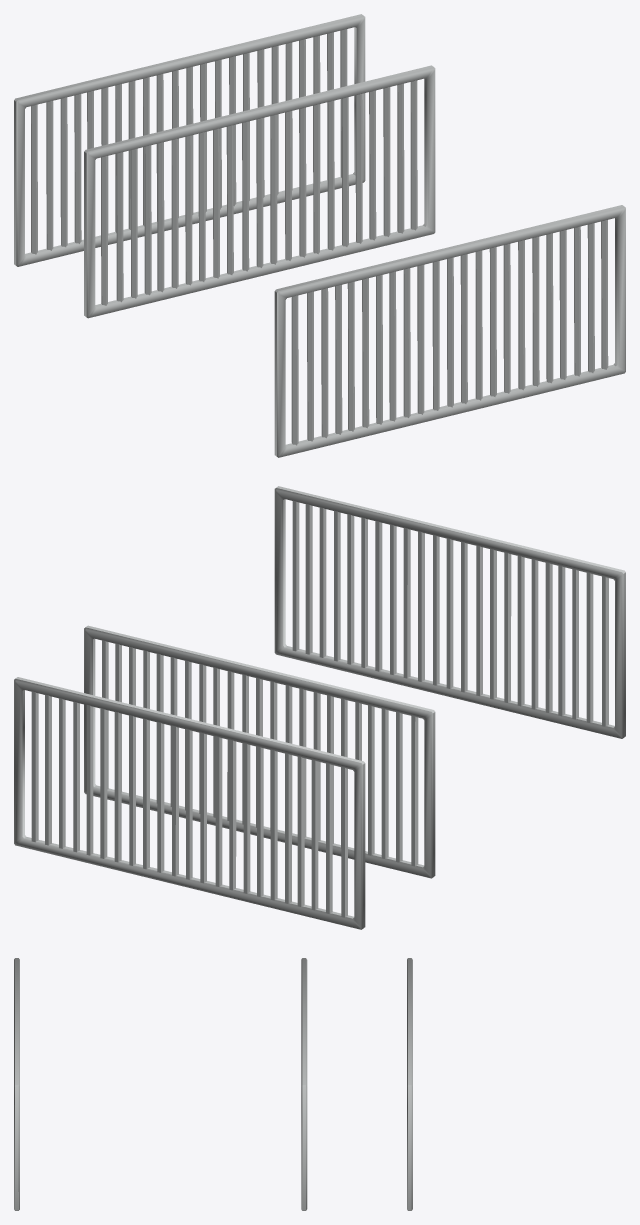
File: FridgebodymeshFridgeA1_0_GeomSubset_2.obj
3 views of the same model, one above another, from view 1: azimuth 30°, elevation 25°; view 2: azimuth 150°, elevation 25°; view 3: azimuth 270°, elevation 25° (orthographic). The views are drawn at different scales.
Visible parts, largest first — view 1: FridgebodymeshFridgeA1_0_GeomSubset_2; view 2: FridgebodymeshFridgeA1_0_GeomSubset_2; view 3: FridgebodymeshFridgeA1_0_GeomSubset_2.
Boxes of the visible parts, <box> form: FridgebodymeshFridgeA1_0_GeomSubset_2: <box>14,14,625,457</box>; FridgebodymeshFridgeA1_0_GeomSubset_2: <box>14,486,625,929</box>; FridgebodymeshFridgeA1_0_GeomSubset_2: <box>14,958,412,1210</box>.
Bounding box in the file's own units: 0.7442 × 0.34 × 1.5.
